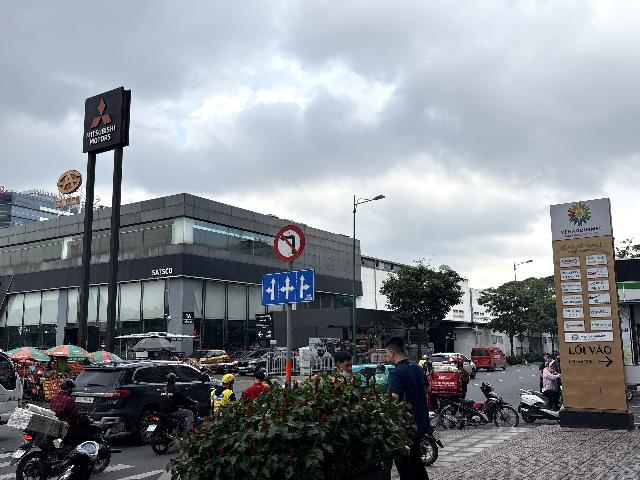cam-re-trai: (274, 224, 306, 262)
